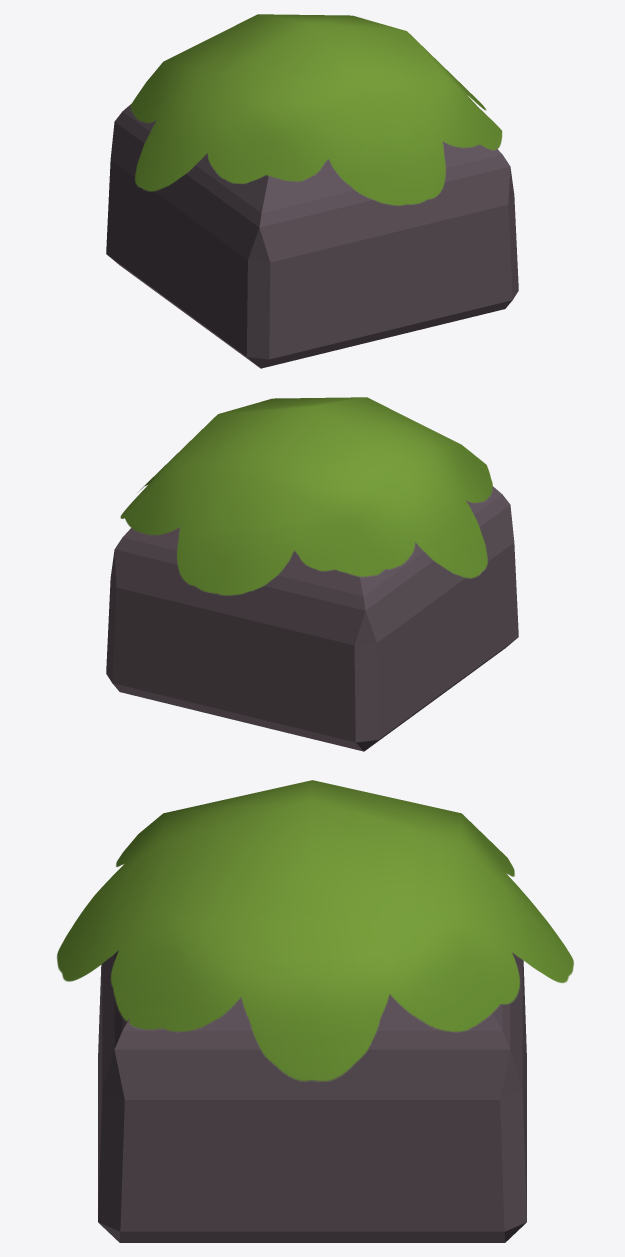
File: Stone1.glb
3 views of the same model, one above another, from view 1: azimuth 30°, elevation 25°; view 2: azimuth 150°, elevation 25°; view 3: azimuth 270°, elevation 25° (orthographic). The views are drawn at different scales.
Visible parts, largest first — view 1: Cube.001; view 2: Cube.001; view 3: Cube.001.
Boxes of the visible parts, x1,y1,x2,y2 form: Cube.001: (106,14,518,368); Cube.001: (106,397,518,751); Cube.001: (57,780,573,1242).
Size of the model in its own units: 2 by 1.33 by 2.
2 materials, 1 textured.
